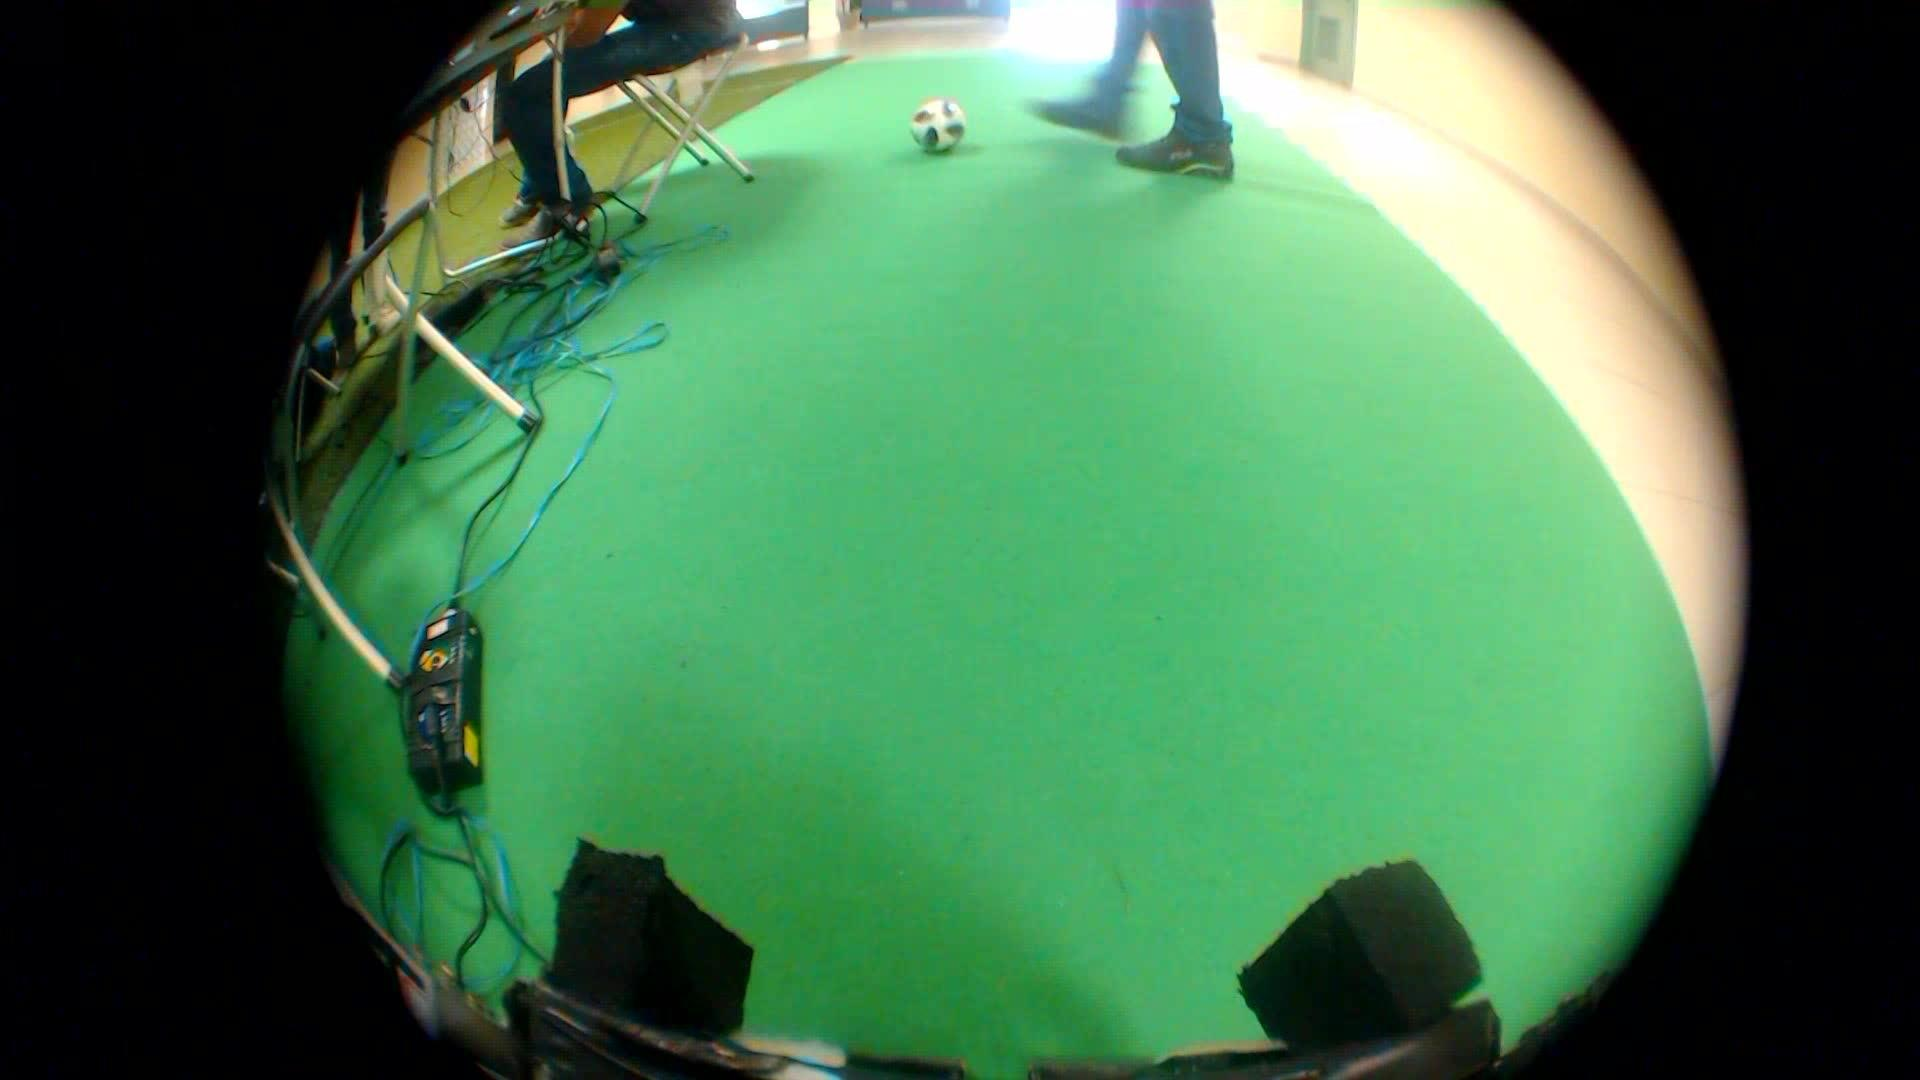ball: (901, 83, 978, 160)
